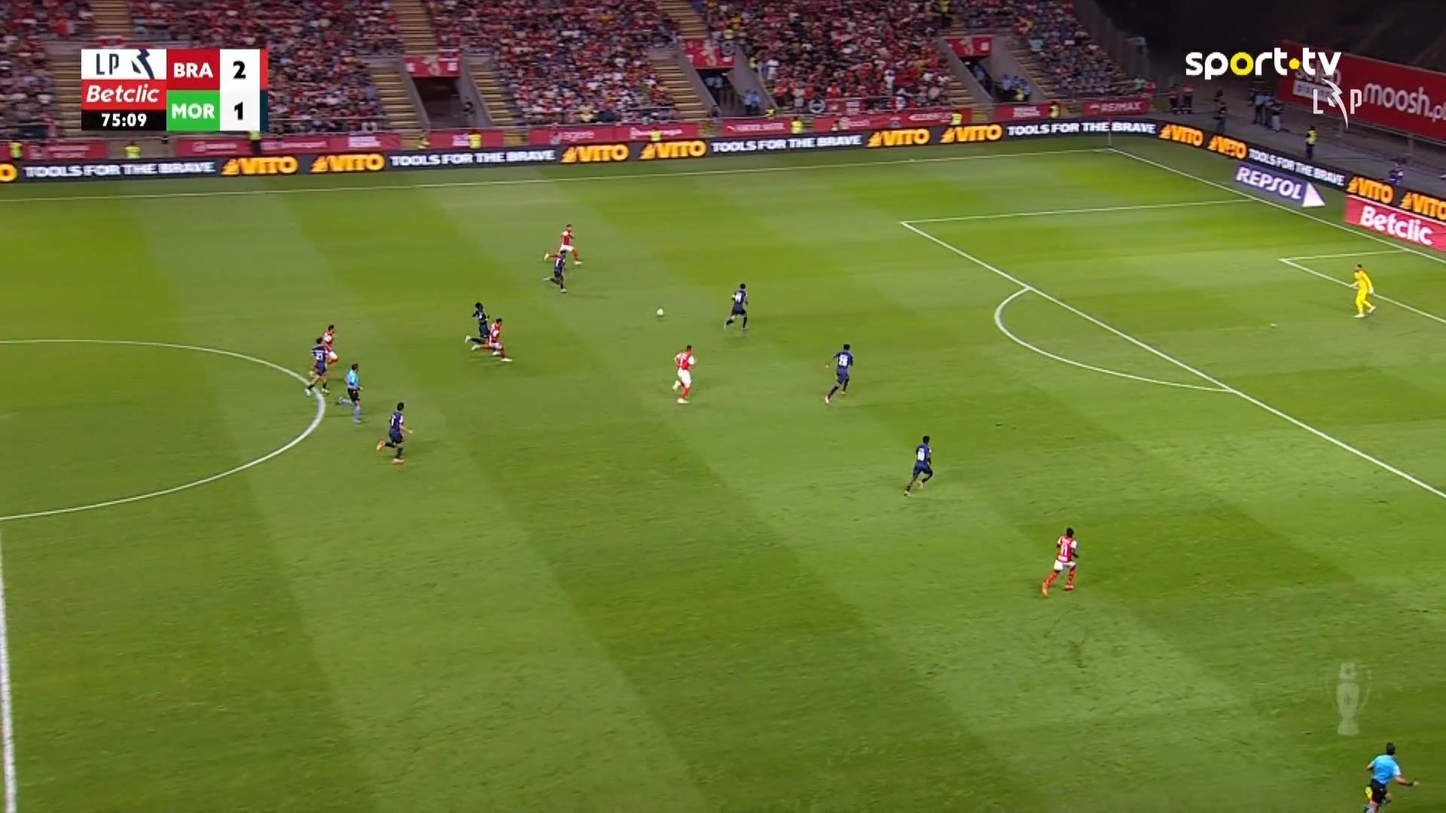ball: (655, 308, 664, 317)
player: (1362, 741, 1420, 811), (541, 222, 582, 293), (1040, 525, 1079, 598), (375, 400, 413, 463), (464, 315, 512, 362), (902, 434, 934, 497), (822, 343, 854, 405), (304, 337, 336, 397), (671, 343, 697, 403), (1347, 263, 1375, 318), (541, 247, 569, 293), (723, 282, 749, 330), (465, 301, 491, 349), (488, 316, 512, 362), (557, 222, 581, 265), (318, 323, 337, 364)
referee: (342, 362, 363, 423)
